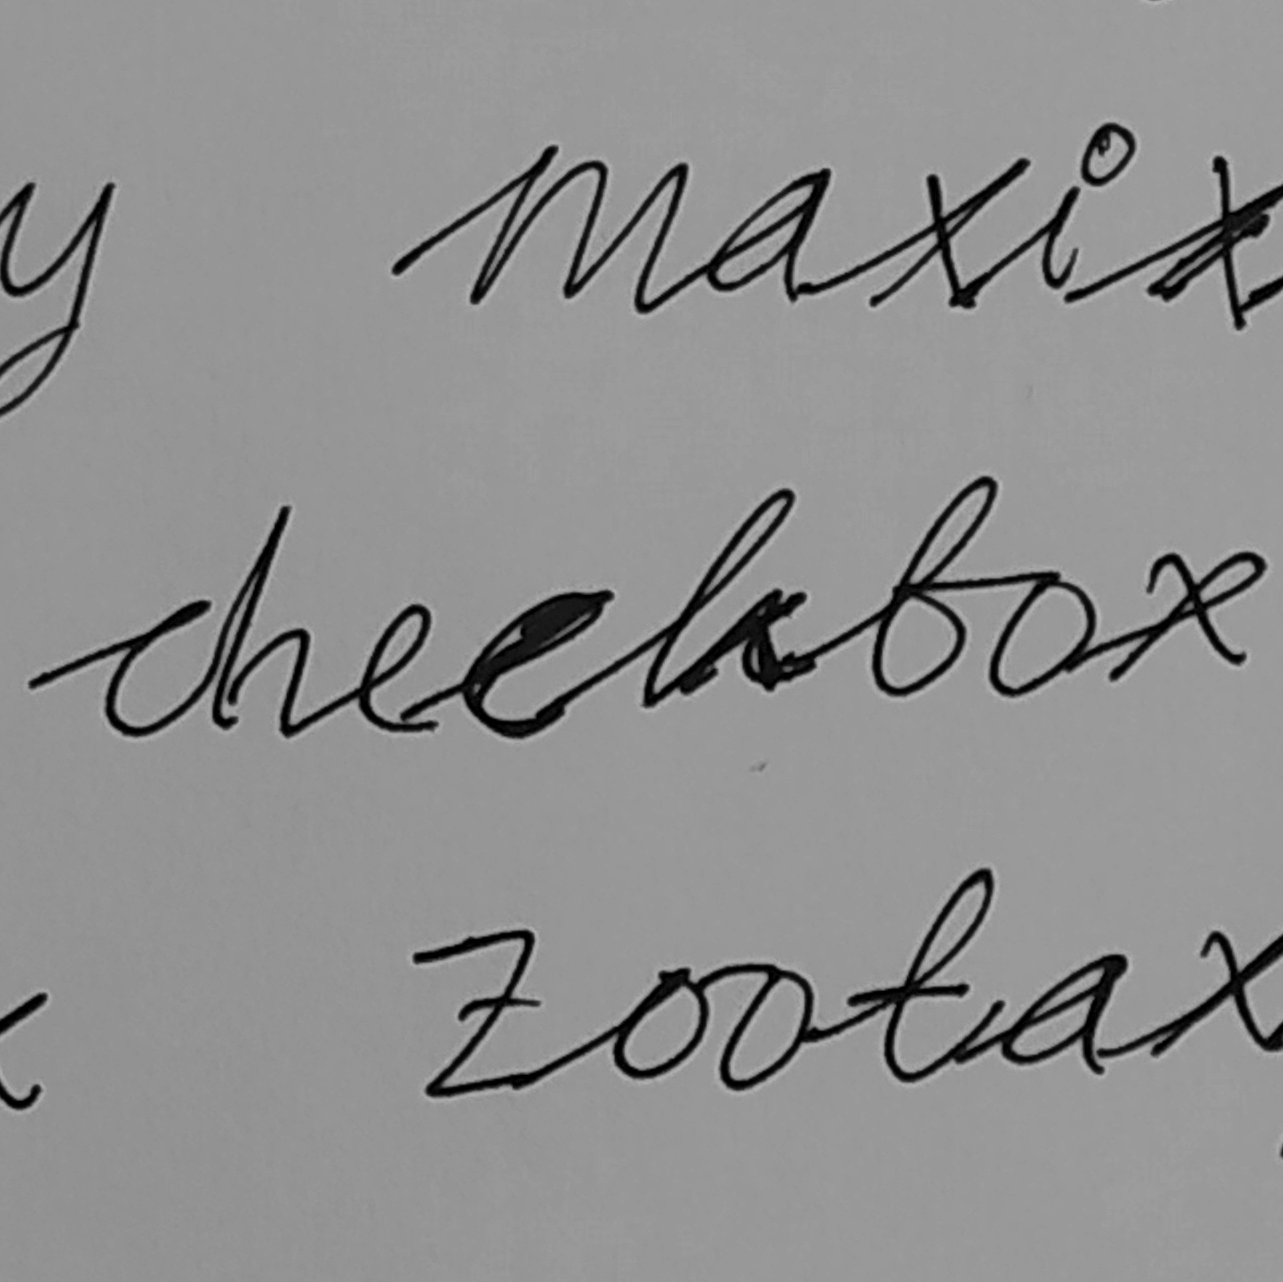b: (867, 474, 1001, 699)
c: (457, 587, 619, 741), (102, 595, 214, 740)
e: (357, 598, 444, 738)
h: (211, 500, 315, 745)
k: (637, 485, 817, 714)
o: (986, 569, 1098, 704)
x: (1105, 546, 1269, 684)
